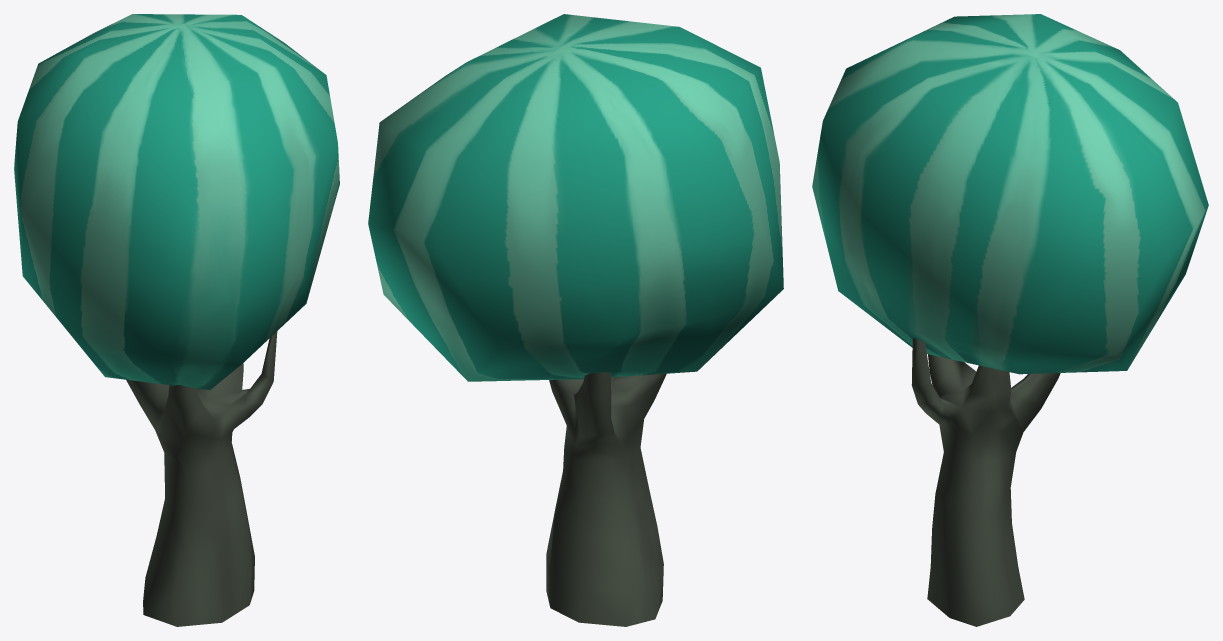
File: tree_J.fbx
3 renders of one model, left to right at view 1: azimuth 30°, elevation 25°; view 2: azimuth 150°, elevation 25°; view 3: azimuth 270°, elevation 25°, orthographic. The views are drawn at different scales.
Visible parts, largest first — view 1: treeE; view 2: treeE; view 3: treeE.
Boxes of the visible parts, x1=… form: treeE: x1=14, y1=14, x2=339, y2=626; treeE: x1=368, y1=14, x2=783, y2=626; treeE: x1=812, y1=14, x2=1208, y2=626.
Bounding box in the file's own units: 131 × 217 × 141.
